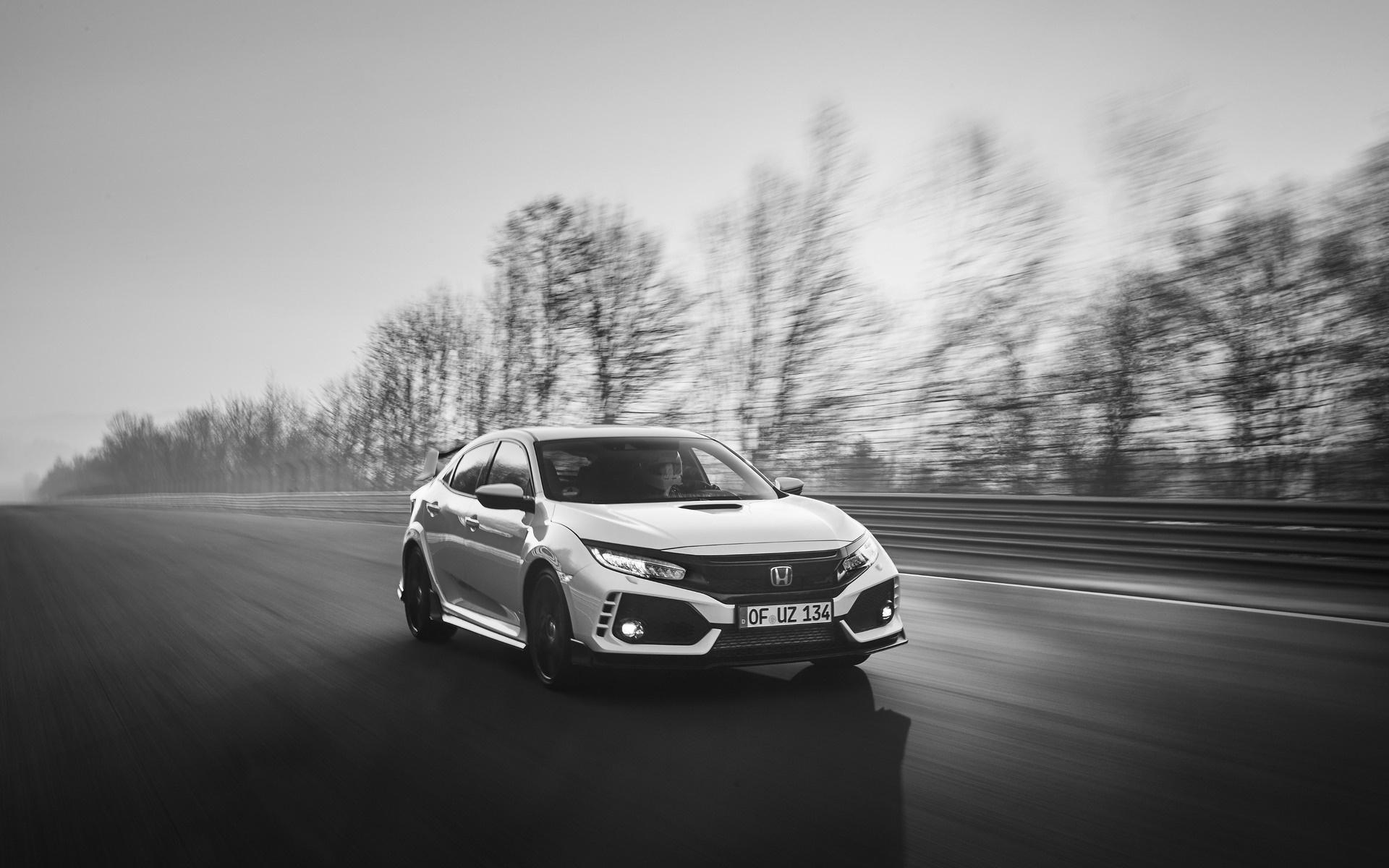Car hood: (554, 493, 867, 560)
Driver-s door - -F-R-: (456, 417, 547, 661)
Fender - -F-R-: (515, 499, 590, 656)
Front bumper: (551, 559, 913, 665)
Headlight - -L-: (831, 531, 886, 589)
Headlight - -R-: (585, 540, 692, 589)
Passenger-s door - -R-R-: (415, 414, 494, 661)
Side bumper - -R-: (428, 586, 540, 661)
Side mirror - -R-: (472, 478, 537, 516)
